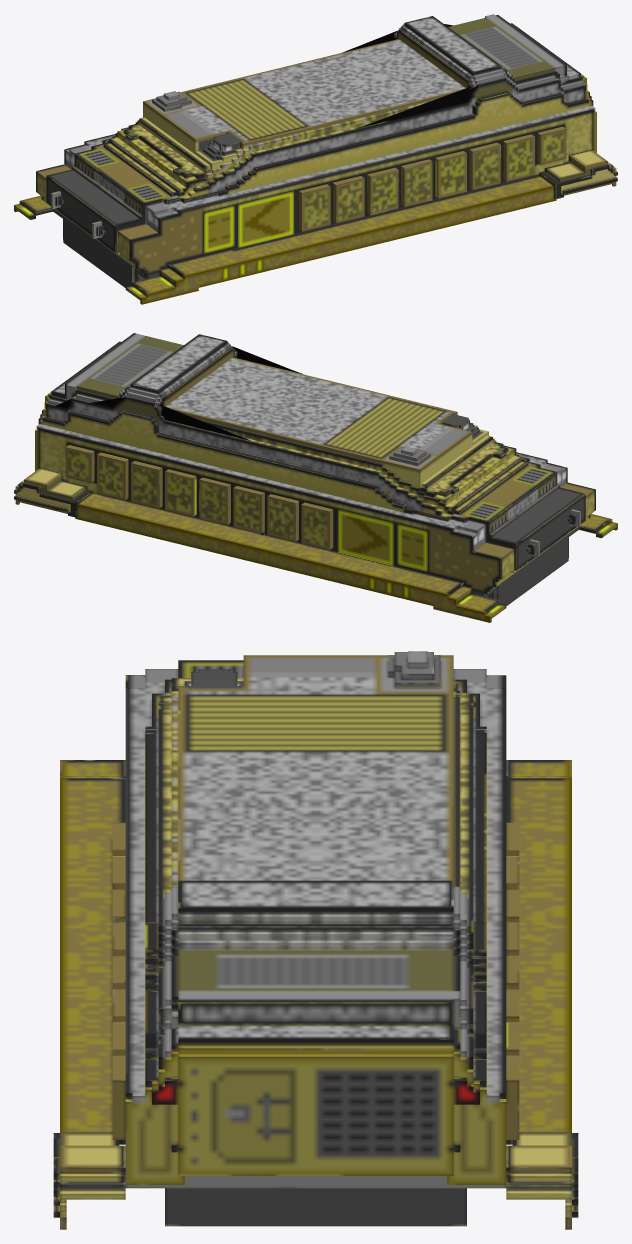
Rendered from player .fbx.
The picture shows the model from 3 angles, top to bottom: view 1: azimuth 30°, elevation 25°; view 2: azimuth 150°, elevation 25°; view 3: azimuth 270°, elevation 25°; orthographic projection. The views are drawn at different scales.
Visible parts, largest first — view 1: Untitled; view 2: Untitled; view 3: Untitled.
Boxes of the visible parts, <box> form: Untitled: <box>14,14,617,304</box>; Untitled: <box>14,333,617,622</box>; Untitled: <box>53,651,578,1229</box>.
Bounding box in the file's own units: 1690 × 460 × 800.
1 material, 1 textured.
